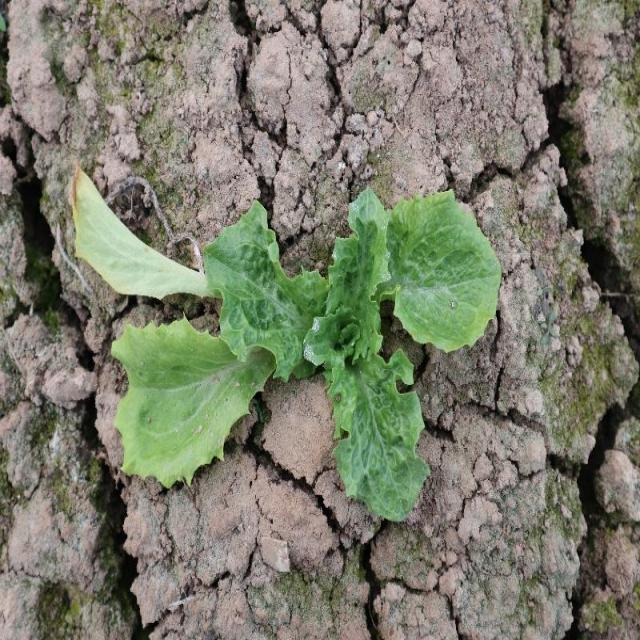crop: (111, 183, 501, 526)
